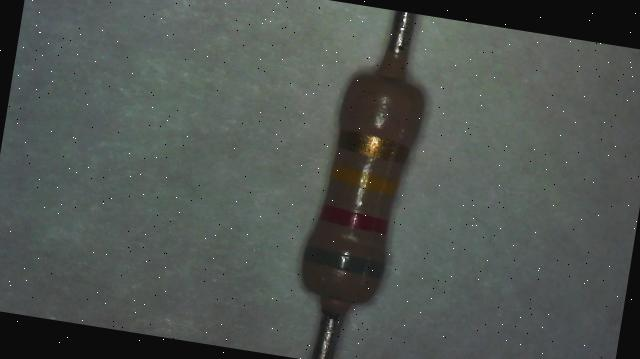gold: (337, 128, 410, 162)
grey: (302, 245, 386, 278)
red: (320, 203, 388, 234)
resistor: (276, 39, 442, 328)
yellow: (329, 164, 398, 196)
